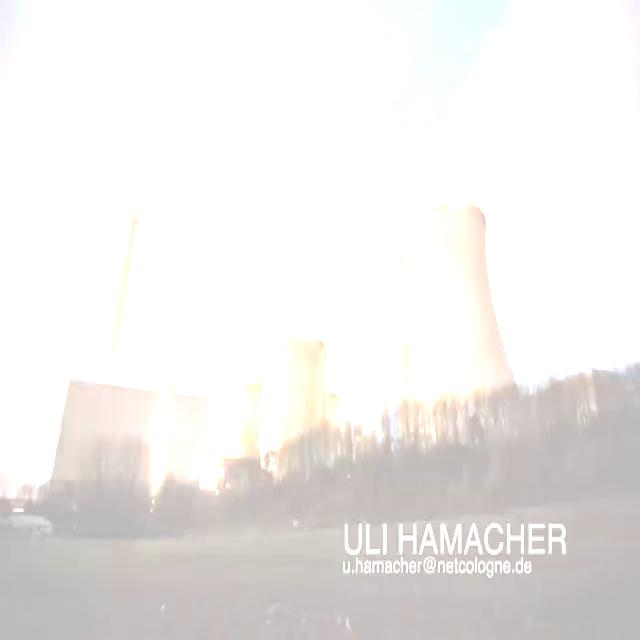smoke: (231, 0, 640, 418)
